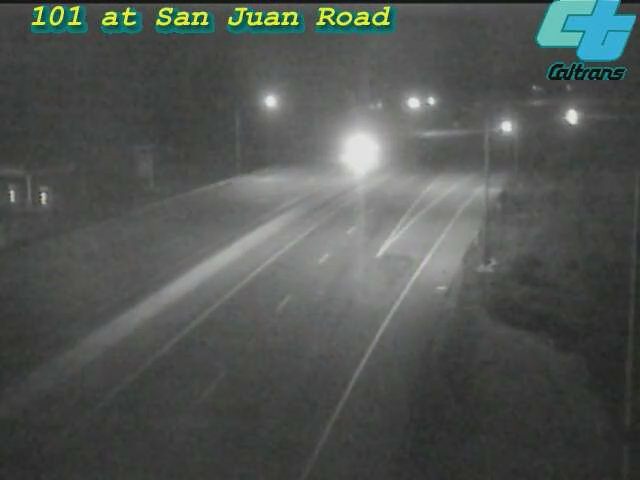vehicle: (327, 130, 377, 180), (480, 103, 530, 153), (543, 93, 593, 143)
